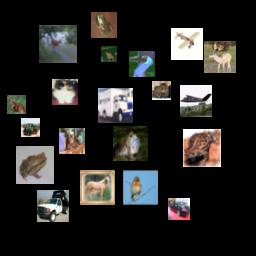airplane: (171, 28, 203, 60), (180, 85, 212, 117)
automobile: (168, 198, 190, 220)
bird: (123, 170, 158, 205), (129, 51, 155, 77)
cat: (59, 128, 85, 154), (52, 79, 78, 105), (152, 81, 171, 100)
deer: (39, 25, 77, 63), (204, 41, 236, 73), (7, 95, 26, 114)
frog: (16, 146, 54, 184), (183, 129, 221, 167), (113, 126, 148, 161), (91, 12, 117, 38), (101, 46, 117, 62)
truck: (98, 88, 133, 123), (37, 190, 69, 222), (21, 118, 40, 137)
